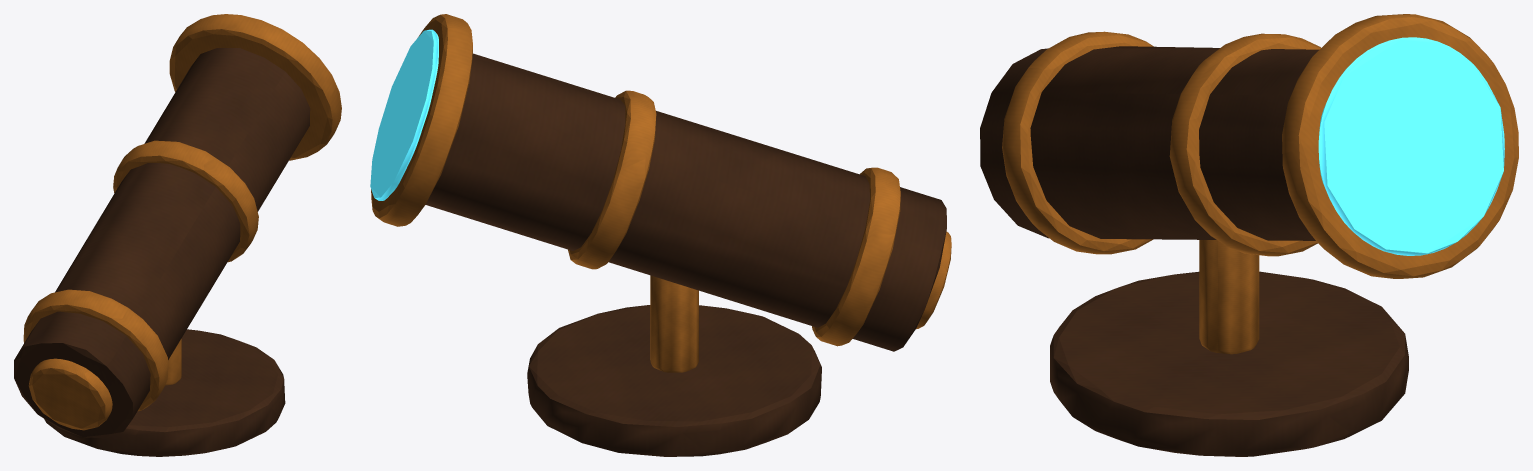
Rendered from relic_06_low.glb.
3 views of the same model, side by side, from view 1: azimuth 30°, elevation 25°; view 2: azimuth 150°, elevation 25°; view 3: azimuth 270°, elevation 25° (orthographic). The views are drawn at different scales.
Parts seen in each view (by area): view 1: Patinated_bronze, Brushed_gold; view 2: Patinated_bronze, Brushed_gold, Luminous_aquamarine; view 3: Patinated_bronze, Brushed_gold, Luminous_aquamarine.
Part boxes in pixels (<box>): Patinated_bronze: <box>14,48,310,456</box>; Brushed_gold: <box>23,14,341,430</box>; Patinated_bronze: <box>425,53,946,456</box>; Brushed_gold: <box>371,14,951,372</box>; Luminous_aquamarine: <box>370,29,438,200</box>; Patinated_bronze: <box>980,46,1408,456</box>; Brushed_gold: <box>1002,14,1518,354</box>; Luminous_aquamarine: <box>1318,37,1504,255</box>.
Size of the model in its own units: 0.7683 by 0.5963 by 0.6301.
Materials: 3 (2 with a texture image).
